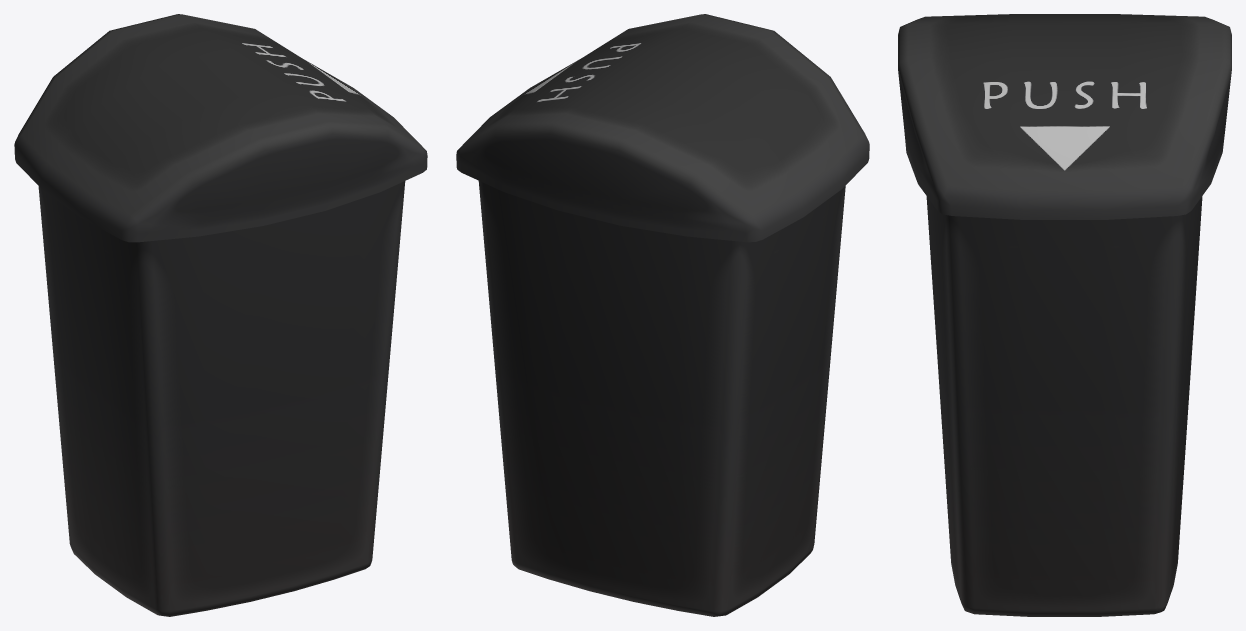
The model's file is OfficeTrashCan01.FBX.
3 views of the same model, side by side, from view 1: azimuth 30°, elevation 25°; view 2: azimuth 150°, elevation 25°; view 3: azimuth 270°, elevation 25° (orthographic). The views are drawn at different scales.
Visible parts, largest first — view 1: OfficeTrashCan01; view 2: OfficeTrashCan01; view 3: OfficeTrashCan01.
Part boxes in pixels (bbox=[...]): OfficeTrashCan01: bbox=[14, 14, 427, 616]; OfficeTrashCan01: bbox=[456, 14, 869, 616]; OfficeTrashCan01: bbox=[898, 14, 1231, 616].
Size of what is drawn, in the model's own units: 0.4245 by 0.615 by 0.3583.
